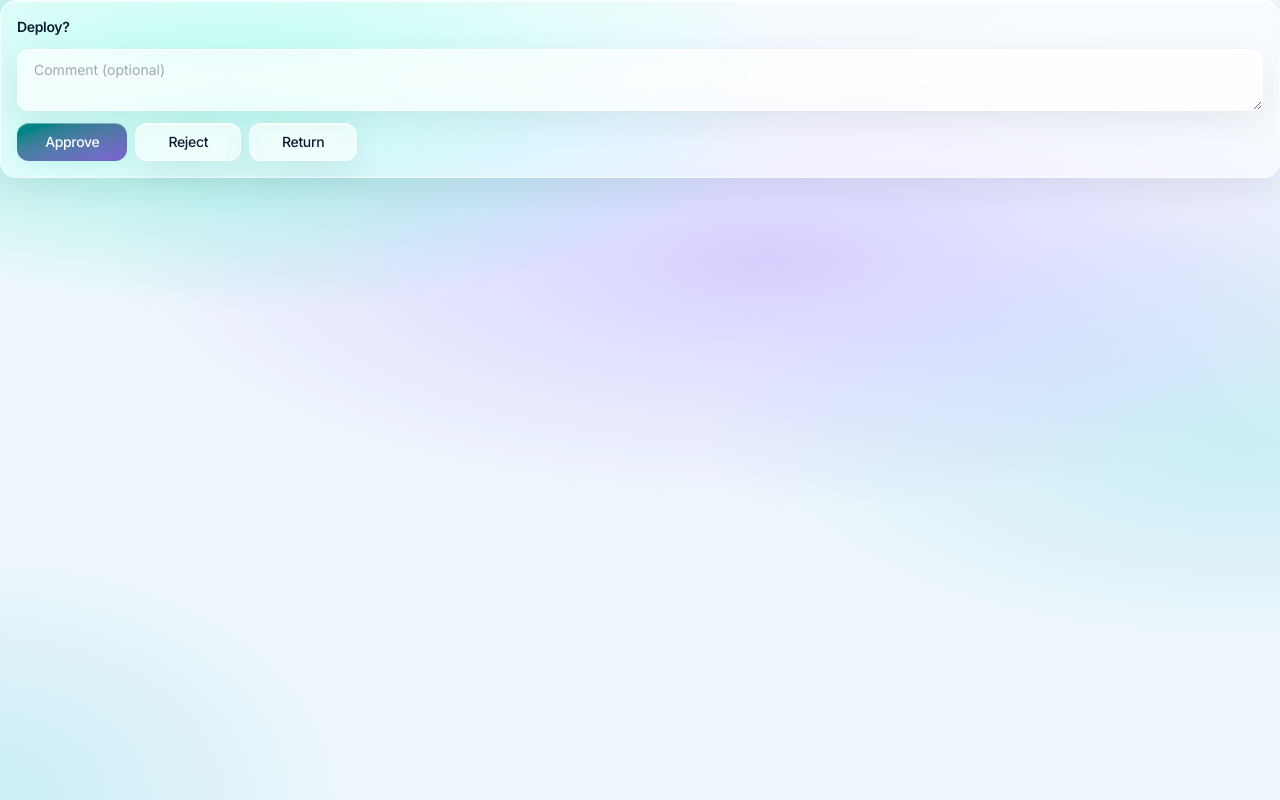
it: ApprovalControls › passes the typed comment to resolveApproval and shows it once resolved
Type "Ship it" into the text box labelled "Comment" at (640, 80), box [17,49,1263,111]
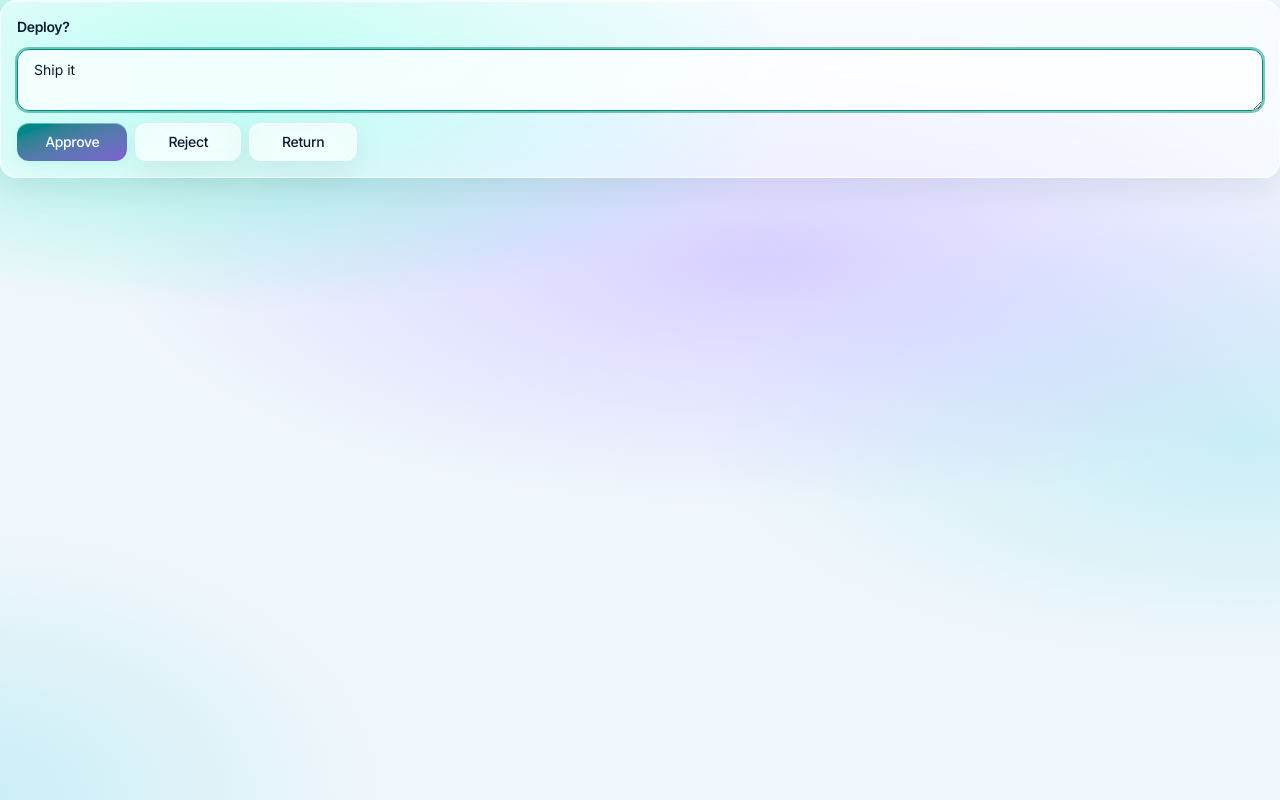
Click the button "Approve" at (72, 142), box [17,123,128,161]
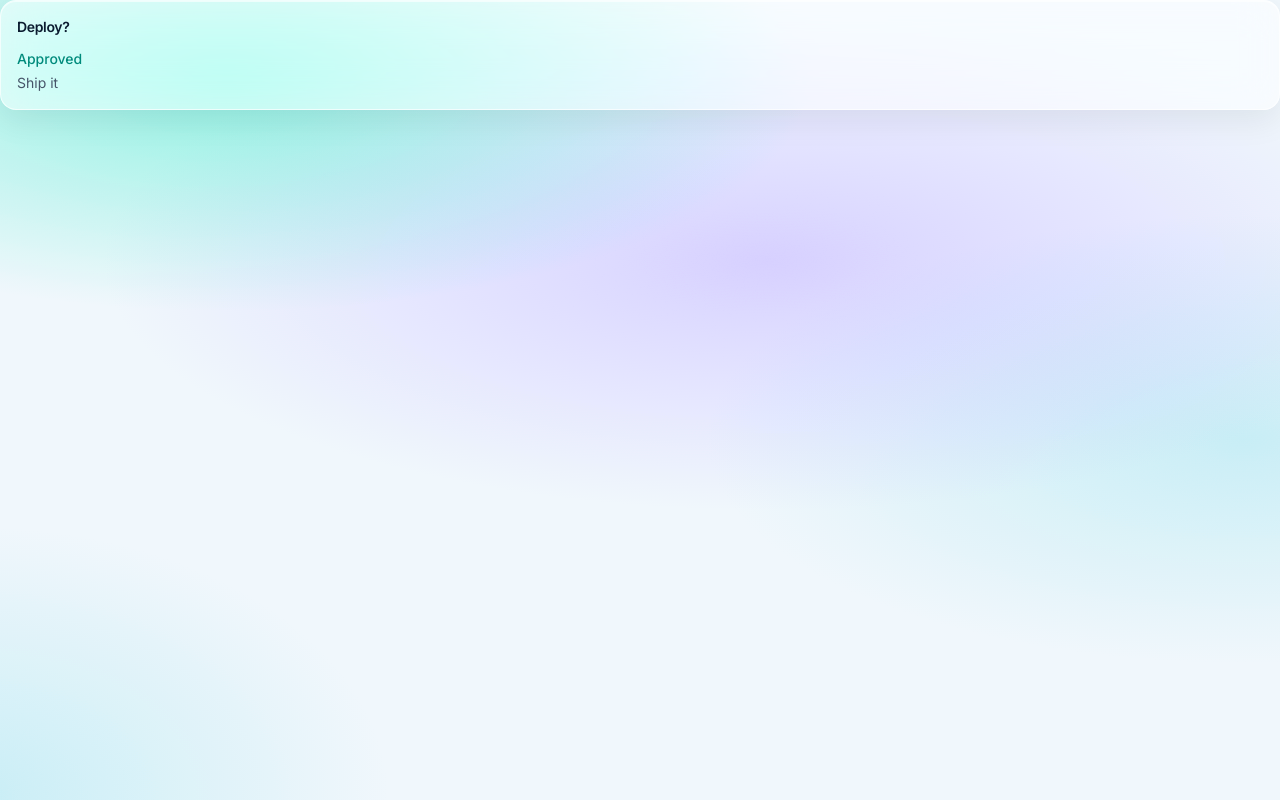
Expected: the text "Ship it" is shown, [17,74,58,91]
